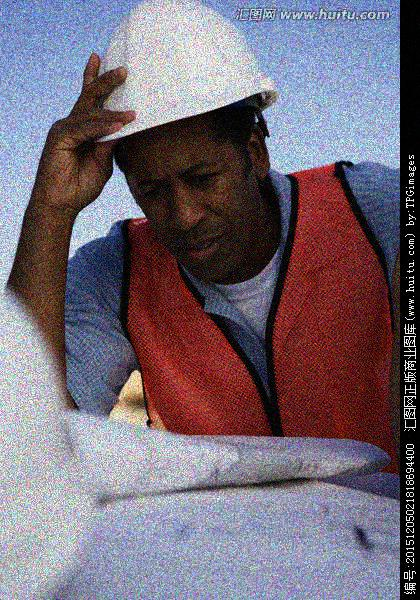helmet: (88, 1, 282, 284)
